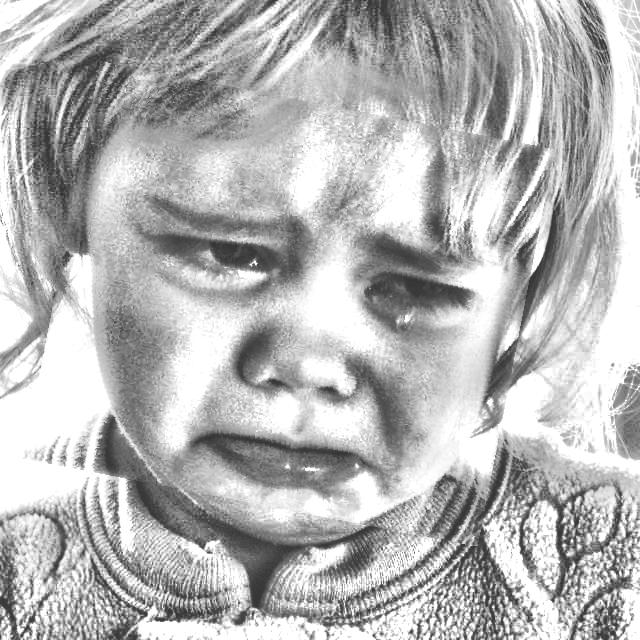sad: (40, 81, 537, 526)
